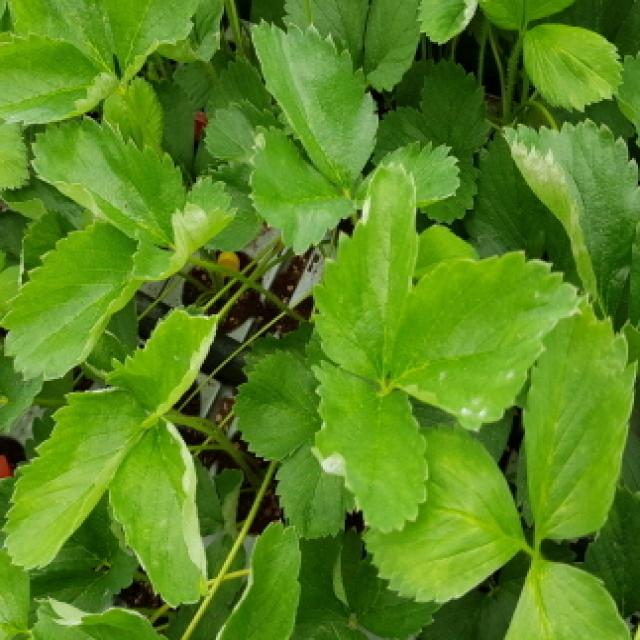Powdery Mildew Leaf: (388, 251, 584, 433), (502, 117, 640, 326), (311, 160, 420, 386), (308, 360, 429, 535), (105, 416, 211, 609), (103, 305, 219, 427), (127, 174, 239, 283), (26, 599, 173, 640), (412, 0, 479, 46)
